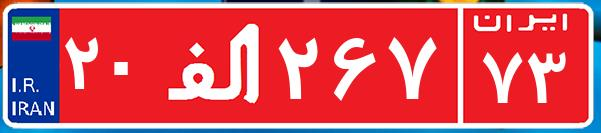0: (110, 28, 158, 105)
2: (273, 28, 330, 110), (57, 26, 110, 107)
3: (525, 38, 570, 115)
6: (330, 28, 385, 110)
7: (385, 28, 445, 110), (475, 38, 525, 113)
الف: (158, 15, 273, 115)
